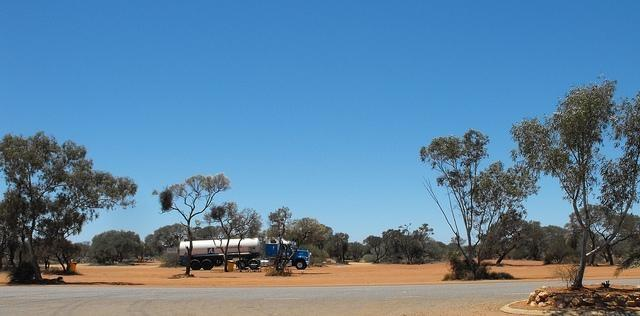truck: (178, 236, 312, 271)
